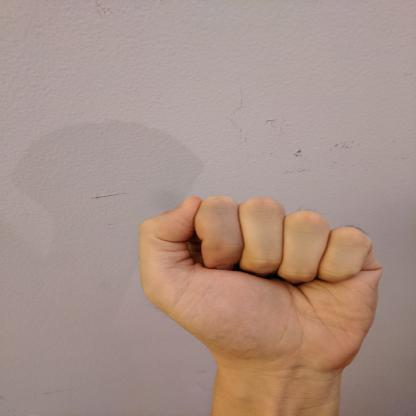A: (132, 191, 387, 374)
